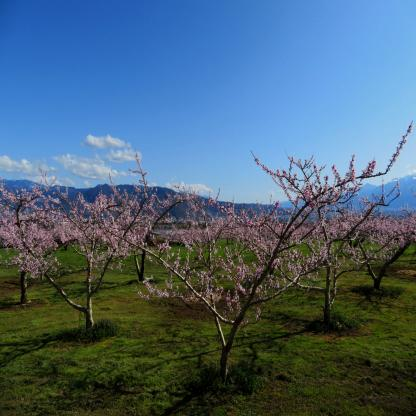Momo: (98, 119, 416, 342), (12, 146, 149, 327), (250, 154, 402, 308), (112, 168, 204, 282), (0, 168, 74, 280), (346, 200, 416, 298)
